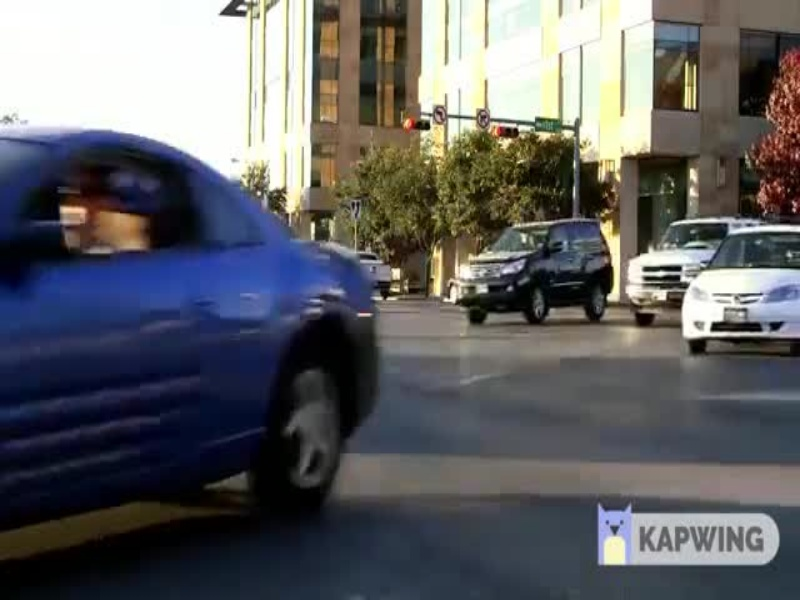car: (1, 125, 406, 552), (453, 219, 625, 331), (680, 235, 800, 358)
